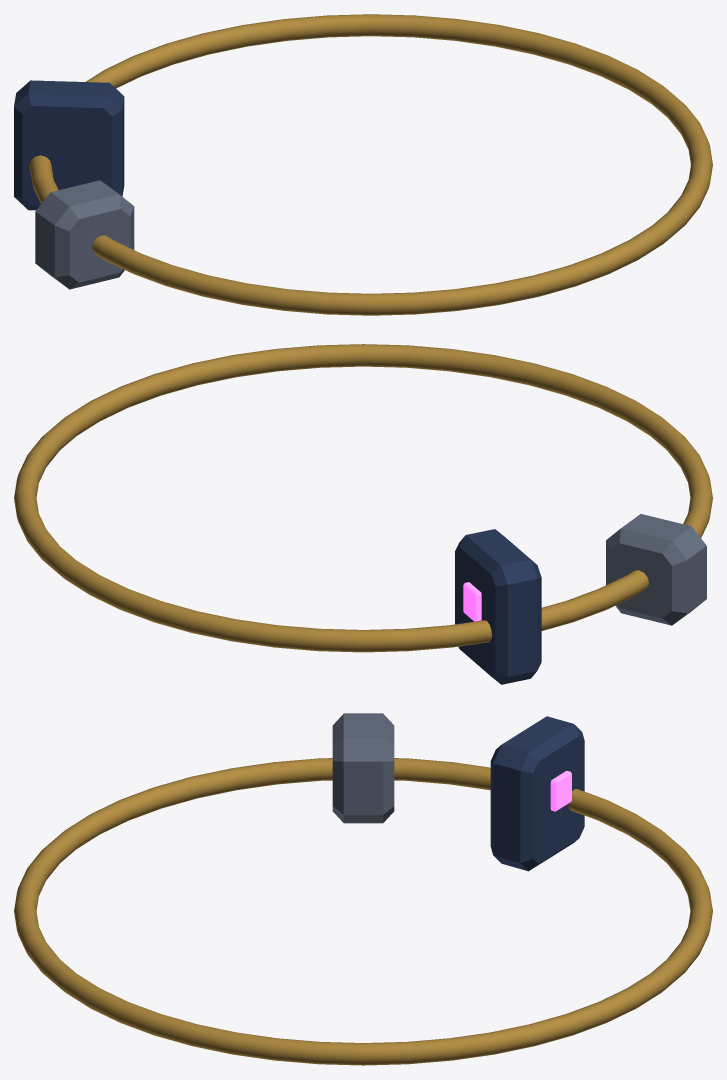
File: tower_arc_rate_s3.glb
3 views of the same model, one above another, from view 1: azimuth 30°, elevation 25°; view 2: azimuth 150°, elevation 25°; view 3: azimuth 270°, elevation 25° (orthographic). The views are drawn at different scales.
Visible parts, largest first — view 1: arc_coolant_loop, arc_meter_box, arc_coolant_pump; view 2: arc_coolant_loop, arc_meter_box, arc_coolant_pump, arc_meter_face; view 3: arc_coolant_loop, arc_meter_box, arc_coolant_pump, arc_meter_face.
Part boxes in pixels (x1,y1,x2,y2): arc_coolant_loop: (29, 14, 712, 315); arc_meter_box: (14, 80, 124, 210); arc_coolant_pump: (35, 180, 134, 289); arc_coolant_loop: (14, 344, 712, 652); arc_meter_box: (455, 529, 541, 684); arc_coolant_pump: (606, 514, 706, 625); arc_meter_face: (463, 582, 481, 621); arc_coolant_loop: (14, 758, 712, 1065); arc_meter_box: (490, 716, 584, 871); arc_coolant_pump: (332, 713, 394, 823); arc_meter_face: (550, 770, 571, 811).
Size of the model in its own units: 1.43 by 0.256 by 1.36.
